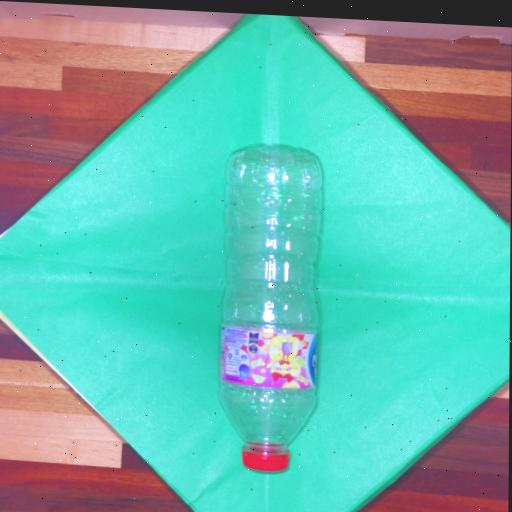bottle: (220, 148, 321, 470)
